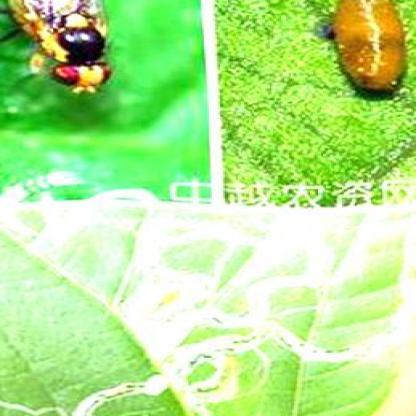whorl-maggot: (320, 0, 413, 100)
